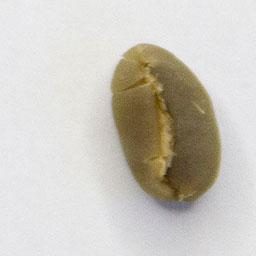premium: (107, 39, 225, 206)
